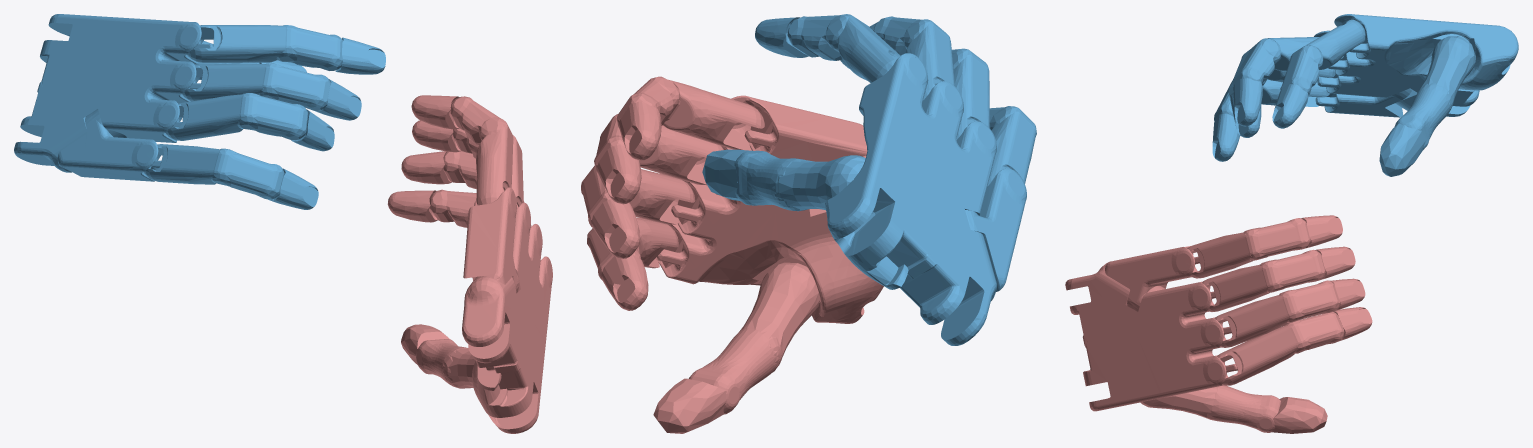
The model's file is Bowl_pc.glb.
3 renders of one model, left to right at view 1: azimuth 30°, elevation 25°; view 2: azimuth 150°, elevation 25°; view 3: azimuth 270°, elevation 25°, orthographic. The views are drawn at different scales.
Parts seen in each view (by area): view 1: geom_1, geom_2; view 2: geom_1, geom_2; view 3: geom_2, geom_1.
Part boxes in pixels (left/top/right/bottom): geom_1: left=14, top=14, right=385, bottom=209; geom_2: left=387, top=95, right=552, bottom=433; geom_1: left=702, top=14, right=1036, bottom=345; geom_2: left=581, top=76, right=883, bottom=433; geom_2: left=1065, top=215, right=1372, bottom=433; geom_1: left=1212, top=14, right=1518, bottom=176.
Bounding box in the file's own units: 0.2479 × 0.212 × 0.2652.
